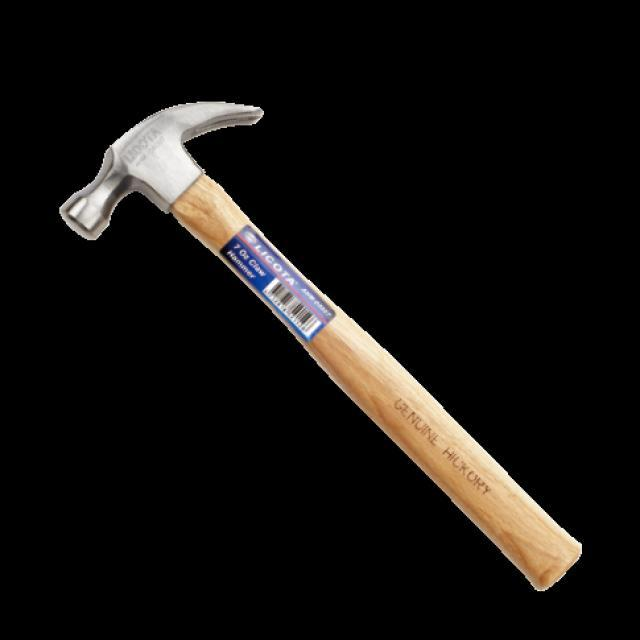hammer: (52, 96, 591, 594)
